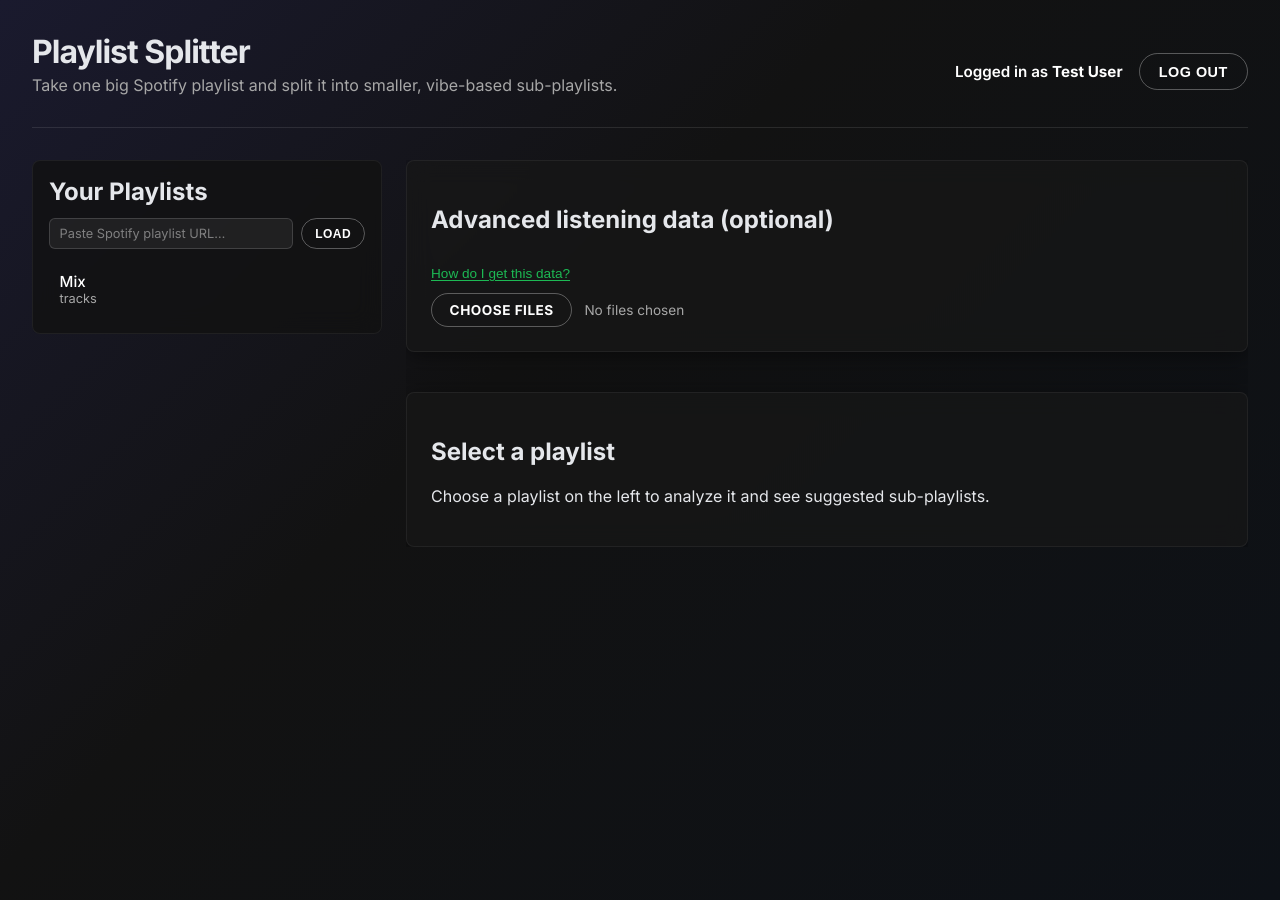
Vibe analysis flow › does not crash when the vibe groupings have unusual or missing fields
What coordinates should you click on to do the following:
click the text "Mix"
I would click on:
 (73, 282)
Its box is 60,272 -> 86,291.
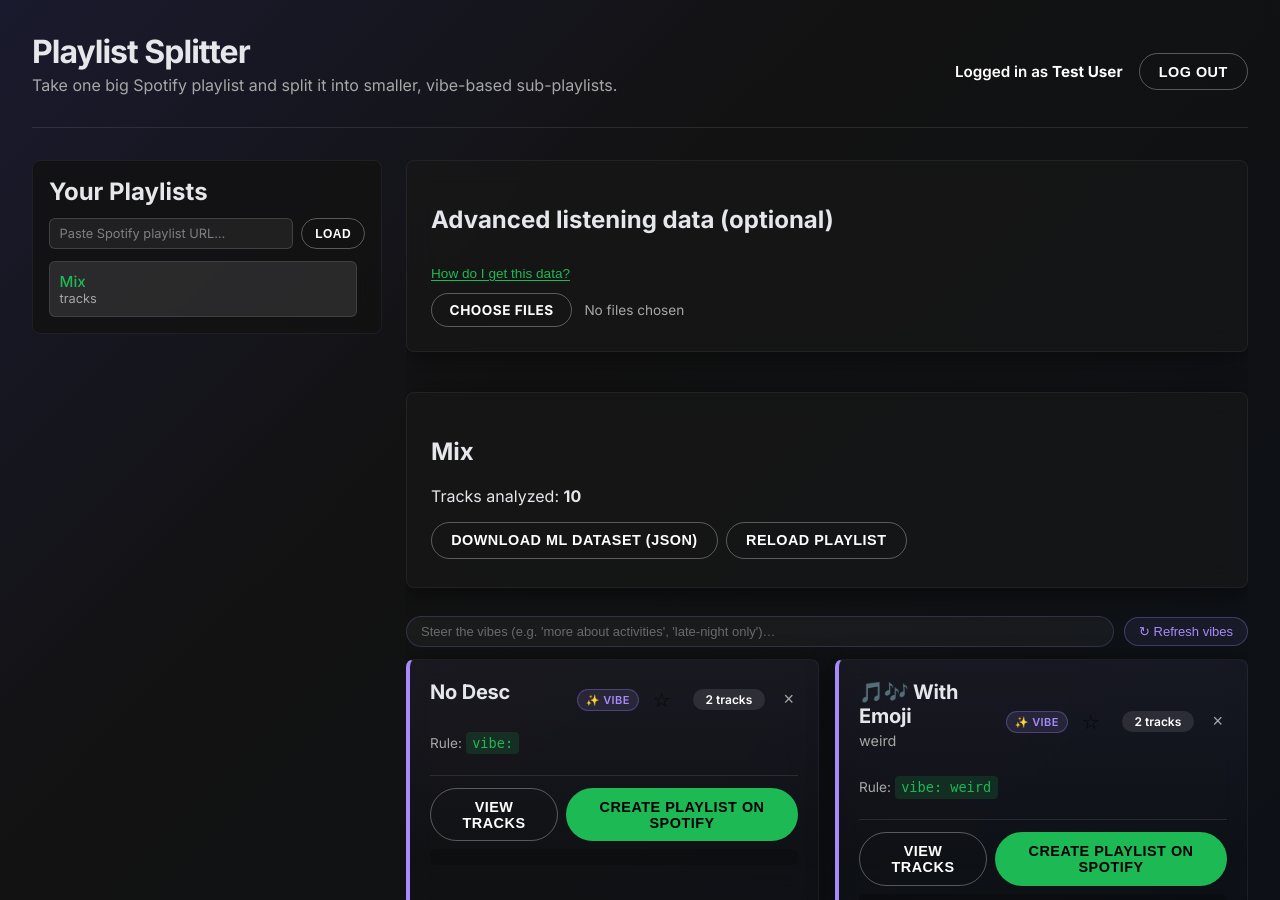
Check: the heading "No Desc" is shown, box 430,680 -> 510,705
Check: the heading "🎵🎶 With Emoji" is shown, box 859,680 -> 958,728
